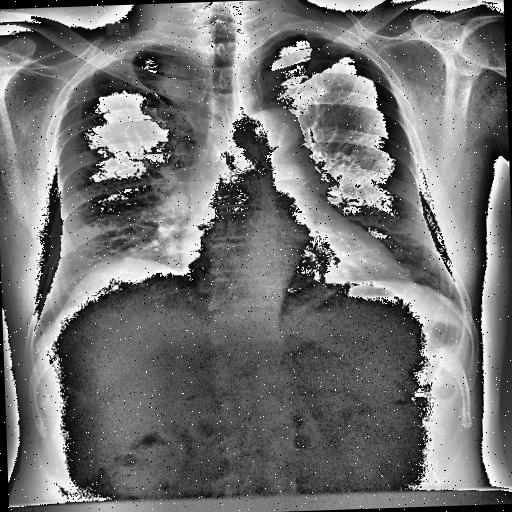0- Aortic enlargement: (242, 106, 308, 160), (230, 106, 300, 154), (242, 107, 300, 159)
11- Pleural thickening: (258, 24, 356, 52), (86, 38, 148, 74), (94, 44, 170, 69), (88, 46, 142, 72), (289, 28, 348, 46)
13- Pulmonary fibrosis: (102, 211, 190, 253)
3- Cardiomegaly: (184, 210, 408, 290), (179, 224, 407, 300), (178, 232, 402, 288)
9- Other lesion: (60, 248, 162, 310)
